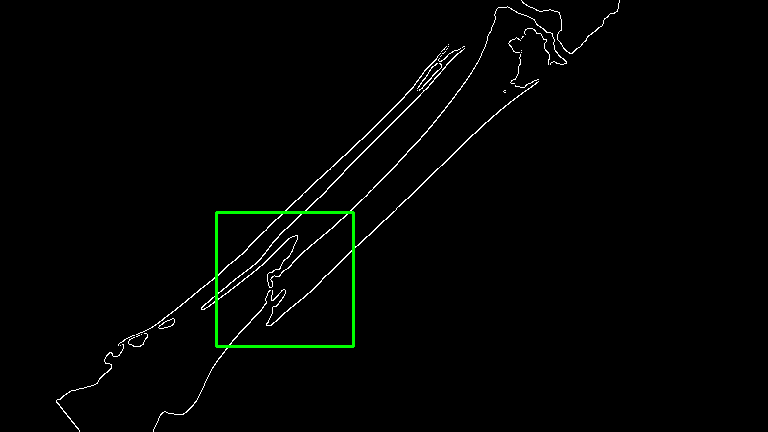fracture: (216, 212, 353, 346)
